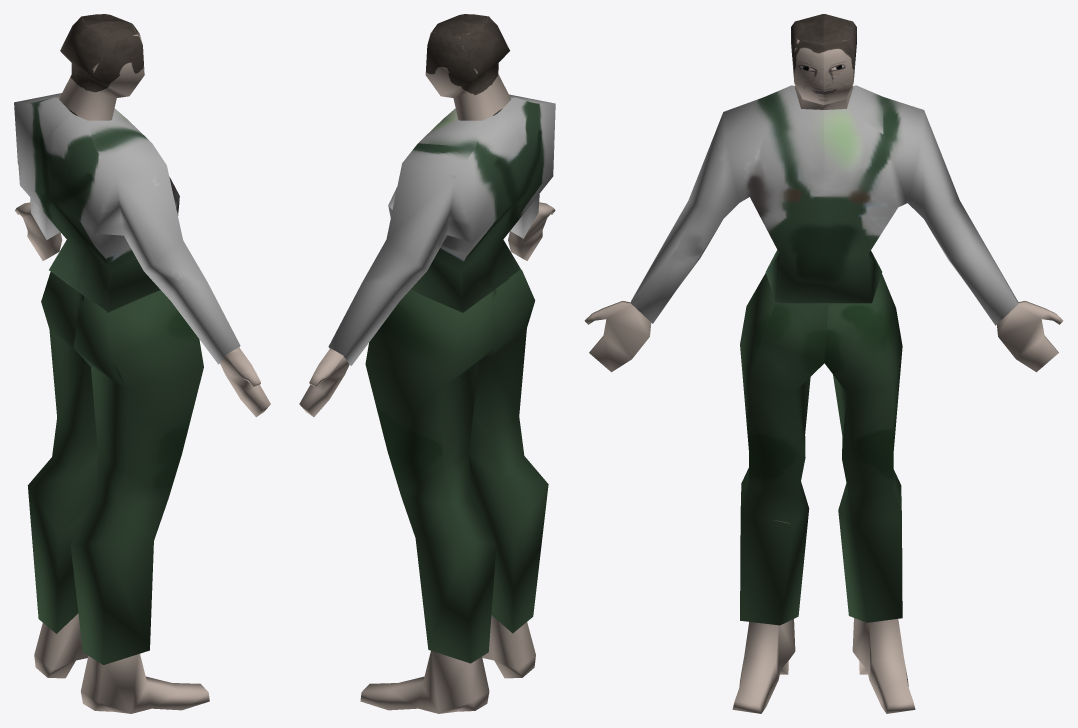
The model's file is Human3.fbx.
3 views of the same model, side by side, from view 1: azimuth 30°, elevation 25°; view 2: azimuth 150°, elevation 25°; view 3: azimuth 270°, elevation 25° (orthographic).
Visible parts, largest first — view 1: OldManPants.001, OldManShirt.001, Human3Head; view 2: OldManPants.001, OldManShirt.001, Human3Head; view 3: OldManShirt.001, OldManPants.001, Human3Head.
Boxes of the visible parts, left/top/right/bottom form: OldManPants.001: left=27, top=272, right=203, bottom=664; OldManShirt.001: left=14, top=93, right=240, bottom=364; Human3Head: left=15, top=14, right=270, bottom=713; OldManPants.001: left=365, top=269, right=548, bottom=663; OldManShirt.001: left=328, top=94, right=555, bottom=365; Human3Head: left=299, top=14, right=555, bottom=713; OldManShirt.001: left=631, top=85, right=1018, bottom=325; OldManPants.001: left=740, top=273, right=902, bottom=625; Human3Head: left=584, top=14, right=1063, bottom=713.
Size of the model in its own units: 186 by 993 by 648.
Materials: 3 (3 with a texture image).
